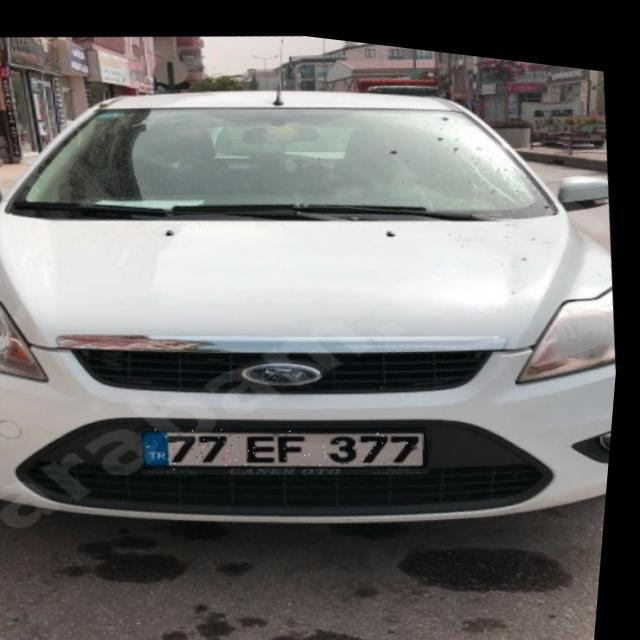license_plate: (143, 390, 437, 491)
